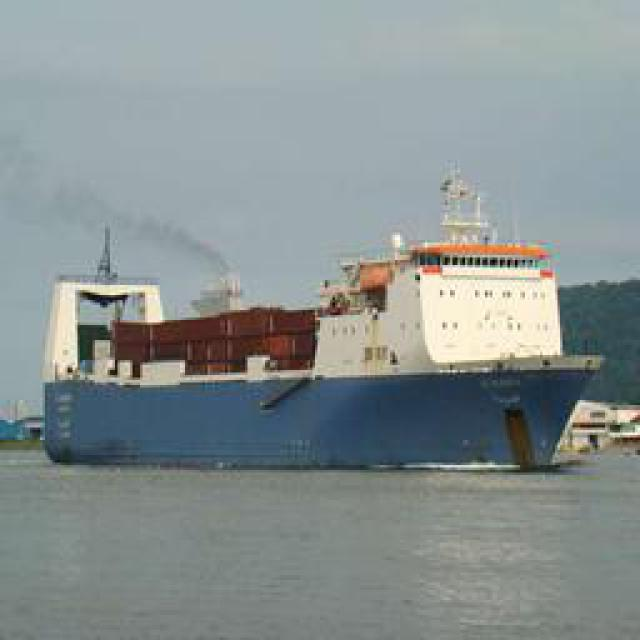Ship: (41, 175, 604, 473)
